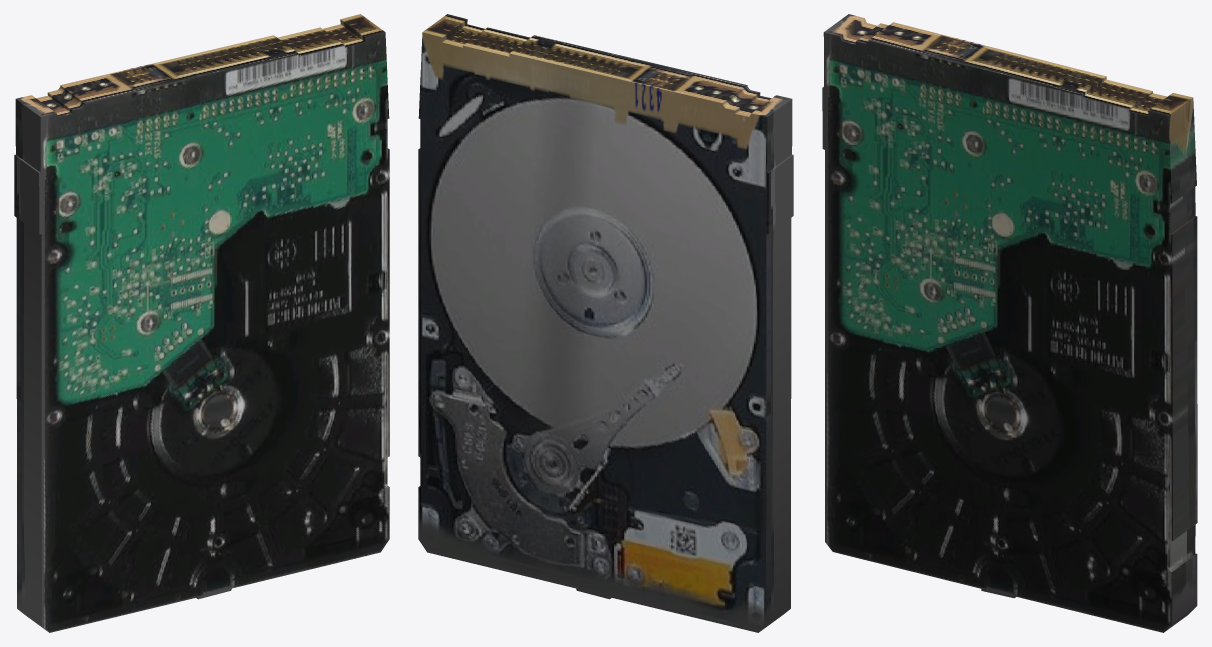
File: projek-hd.fbx
3 renders of one model, left to right at view 1: azimuth 30°, elevation 25°; view 2: azimuth 150°, elevation 25°; view 3: azimuth 330°, elevation 25°, orthographic.
Parts seen in each view (by area): view 1: root; view 2: root; view 3: root.
Part boxes in pixels (bbox=[...]): root: bbox=[14, 14, 389, 632]; root: bbox=[418, 14, 793, 632]; root: bbox=[822, 14, 1197, 632].
Size of the model in its own units: 0.2428 by 0.3464 by 0.0299.
Materials: 1 (1 with a texture image).
